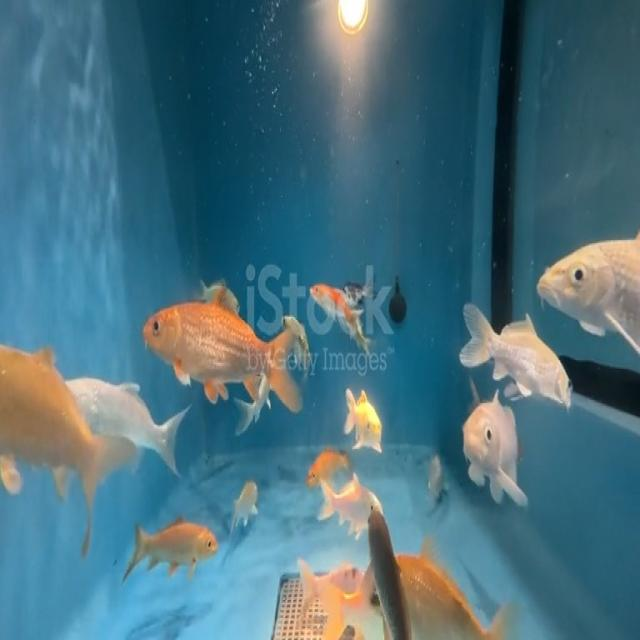fish: (1, 342, 135, 558), (134, 284, 308, 415), (460, 289, 580, 421), (342, 543, 498, 640), (534, 228, 640, 368), (80, 365, 188, 469), (112, 501, 226, 578), (461, 392, 532, 515), (356, 493, 409, 637), (311, 262, 373, 352), (316, 478, 394, 542), (336, 368, 386, 458), (290, 542, 362, 604), (323, 557, 374, 634), (226, 469, 268, 532), (298, 435, 347, 486), (423, 440, 448, 502)
